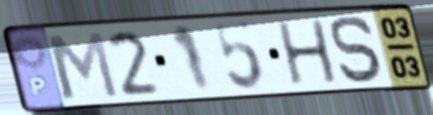1: (169, 22, 216, 96)
2: (104, 28, 163, 99)
5: (211, 18, 267, 93)
H: (274, 16, 342, 88)
M: (42, 29, 123, 102)
S: (328, 14, 387, 85)
